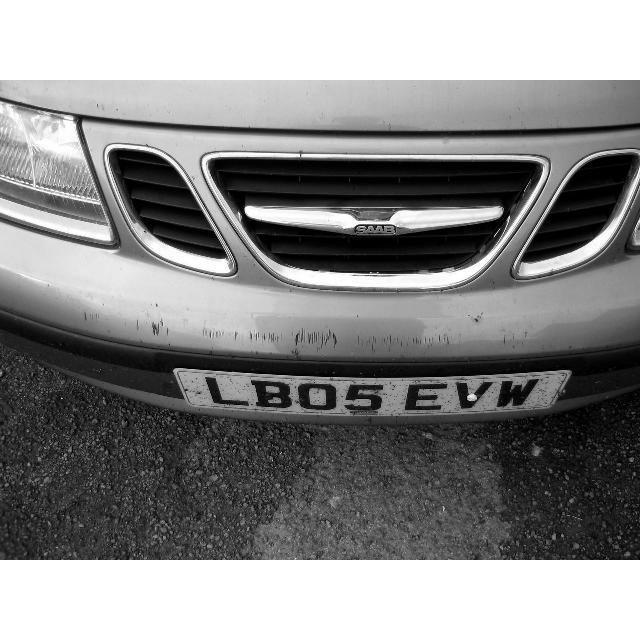front-bumper-dent: (87, 275, 598, 419)
